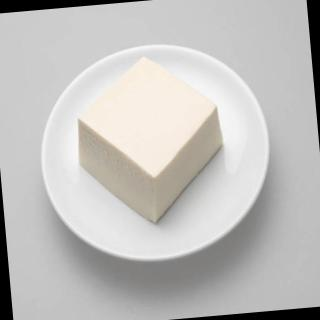Tahu: (69, 52, 236, 237)
